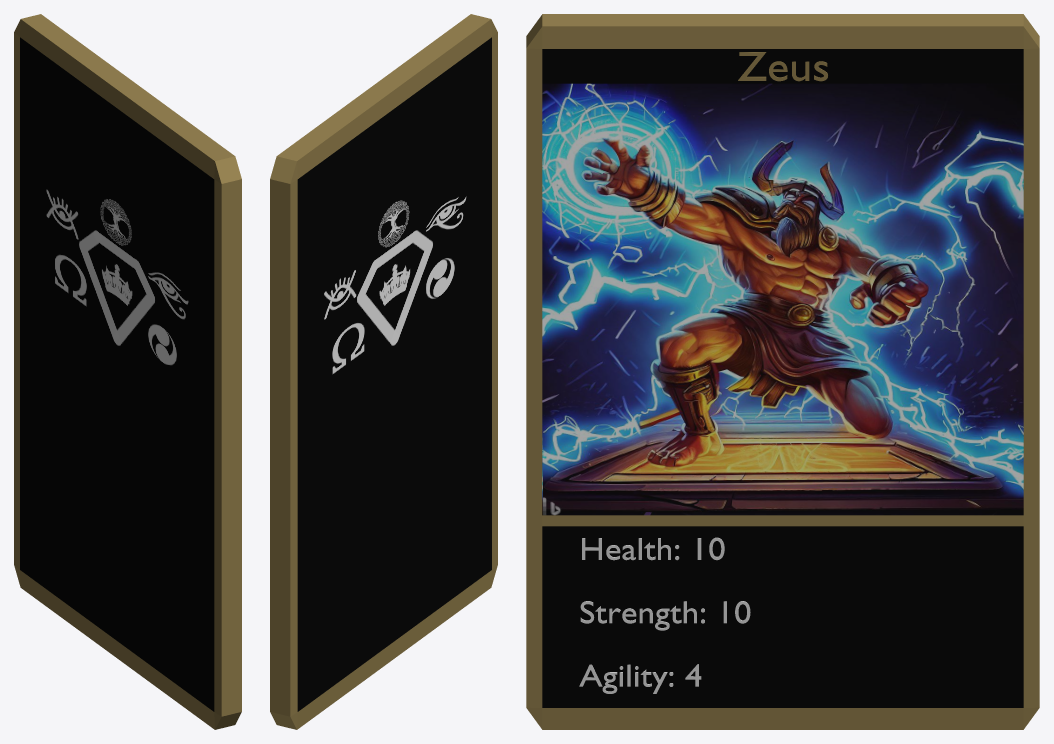
File: Zeus (3).fbx
3 views of the same model, side by side, from view 1: azimuth 30°, elevation 25°; view 2: azimuth 150°, elevation 25°; view 3: azimuth 270°, elevation 25° (orthographic). The views are drawn at different scales.
Visible parts, largest first — view 1: Zeus; view 2: Zeus; view 3: Zeus.
Part boxes in pixels (left/top/right/bottom): Zeus: left=14, top=14, right=241, bottom=729; Zeus: left=270, top=14, right=497, bottom=729; Zeus: left=526, top=14, right=1039, bottom=729.
Size of the model in its own units: 19.94 by 482 by 319.
5 materials, 2 textured.
